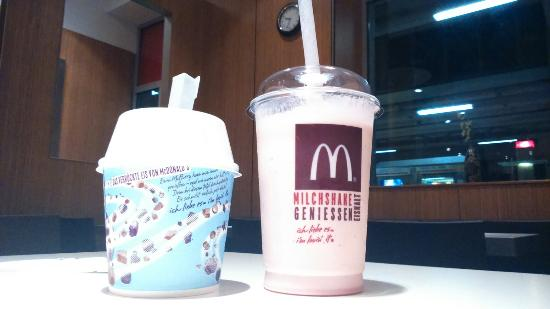mcdonalds: (309, 140, 356, 185)
